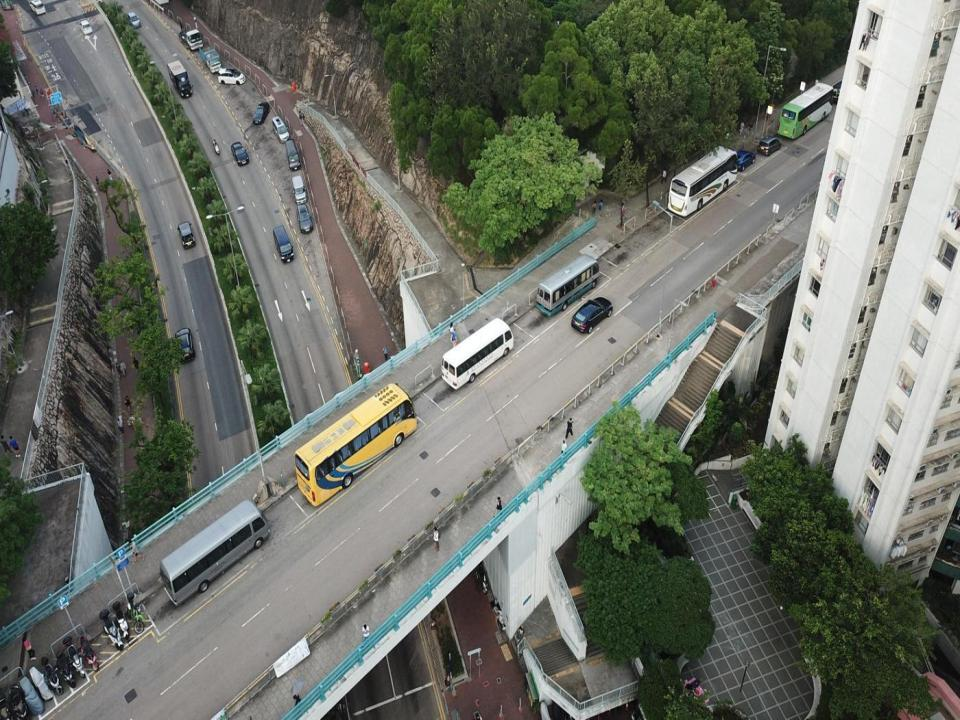bus: (295, 383, 417, 506), (159, 499, 270, 607), (442, 317, 514, 389), (668, 145, 737, 216), (535, 253, 599, 315), (776, 82, 833, 138)
car: (571, 297, 613, 333), (175, 328, 195, 363), (732, 150, 755, 171), (230, 141, 249, 166), (758, 136, 781, 156), (252, 102, 270, 124)
truck: (168, 59, 194, 99), (177, 21, 204, 51), (198, 42, 222, 74)
van: (273, 226, 293, 264), (832, 79, 854, 105), (177, 221, 195, 250), (296, 204, 314, 233), (272, 115, 290, 144), (285, 139, 301, 171), (218, 68, 246, 86), (292, 176, 307, 204), (30, 0, 45, 15), (79, 18, 92, 35), (128, 11, 140, 29)
